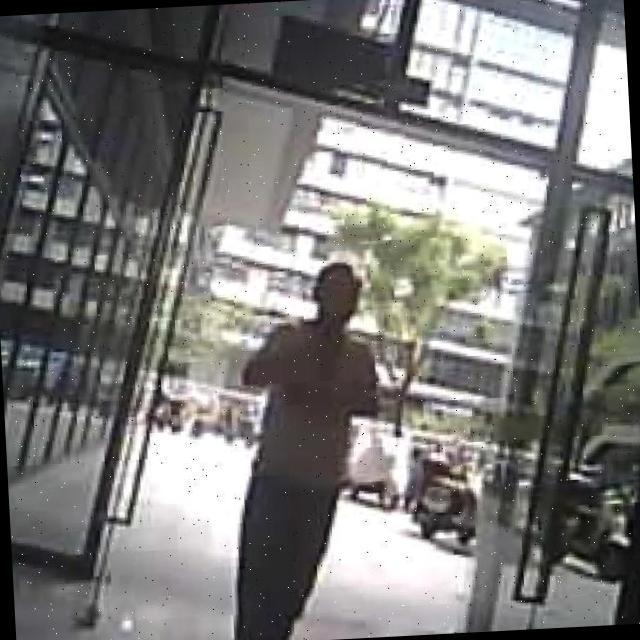person: (212, 260, 395, 640)
